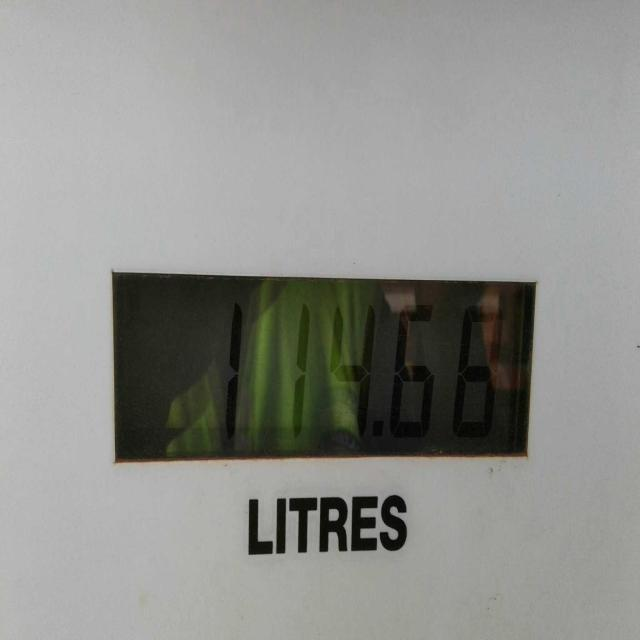.: (362, 402, 387, 456)
1: (211, 298, 259, 470), (275, 296, 325, 452), (328, 297, 376, 443)
6: (390, 295, 453, 457)
8: (444, 298, 516, 448)
